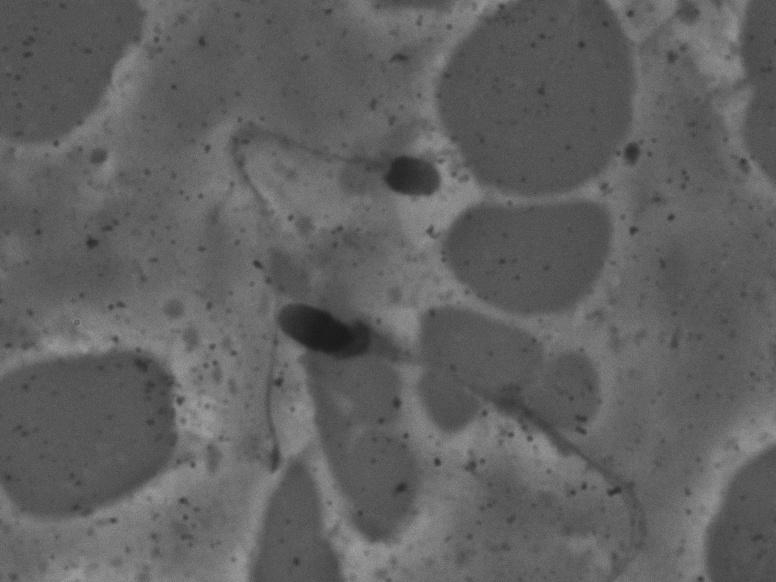Abnormal: (274, 291, 653, 566)
Normal: (217, 94, 448, 485)
